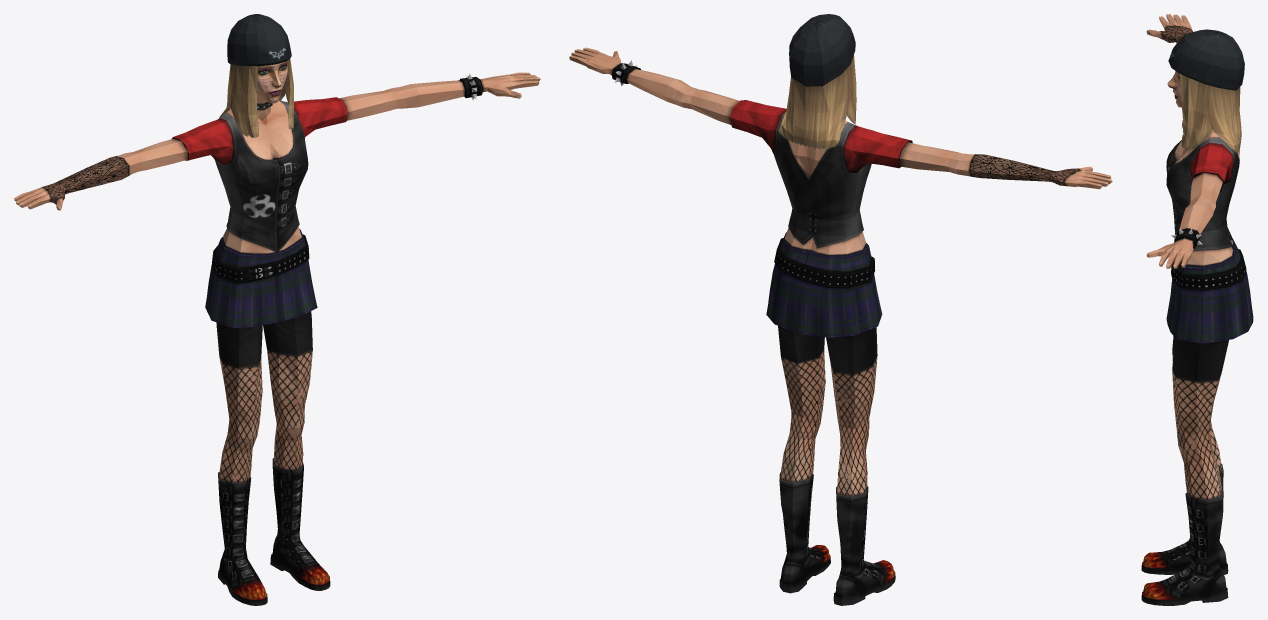
The model's file is Roxie Sharpe.obj.
3 views of the same model, side by side, from view 1: azimuth 30°, elevation 25°; view 2: azimuth 150°, elevation 25°; view 3: azimuth 270°, elevation 25° (orthographic). The views are drawn at different scales.
Visible parts, largest first — view 1: Mesh_0003, Mesh_0009, Mesh_0011, Mesh_0000, Mesh_0010; view 2: Mesh_0003, Mesh_0011, Mesh_0009, Mesh_0010; view 3: Mesh_0003, Mesh_0011, Mesh_0009, Mesh_0010, Mesh_0000.
Part boxes in pixels (x1,y1,x2,y2): Mesh_0003: [14, 72, 540, 605]; Mesh_0009: [227, 14, 291, 66]; Mesh_0011: [219, 59, 293, 137]; Mesh_0000: [257, 60, 288, 103]; Mesh_0010: [221, 59, 293, 136]; Mesh_0003: [569, 47, 1112, 605]; Mesh_0011: [778, 55, 856, 149]; Mesh_0009: [789, 14, 855, 86]; Mesh_0010: [779, 62, 855, 148]; Mesh_0003: [1141, 14, 1253, 605]; Mesh_0011: [1179, 74, 1241, 152]; Mesh_0009: [1168, 29, 1244, 90]; Mesh_0010: [1180, 75, 1241, 151]; Mesh_0000: [1167, 71, 1182, 107].
Bounding box in the file's own units: 1.87 × 1.9 × 0.3489.
5 materials, 5 textured.
